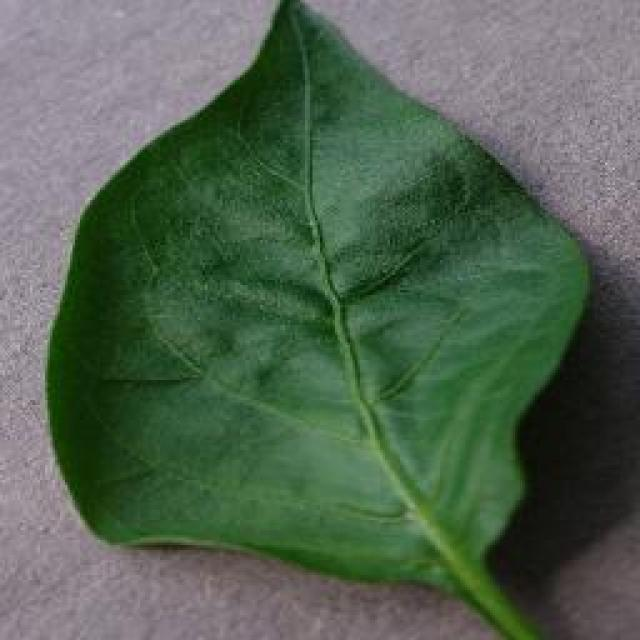Leaf: (43, 12, 601, 617)
